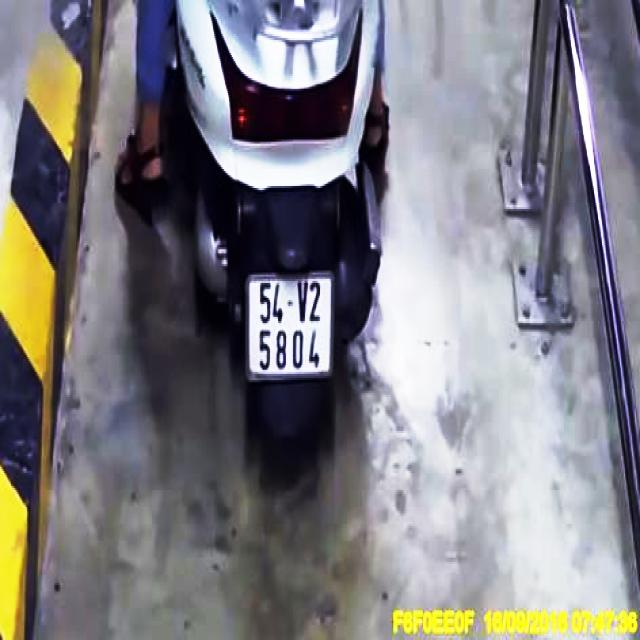license_plate: (247, 276, 332, 380)
